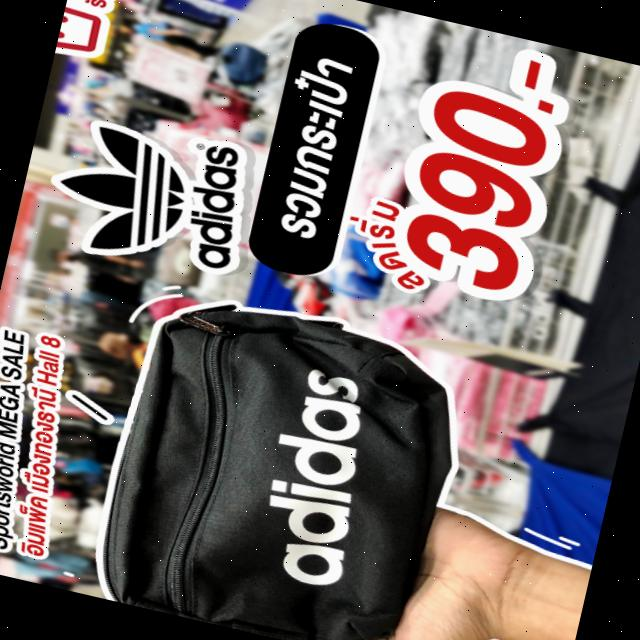handbag: (85, 282, 479, 640)
